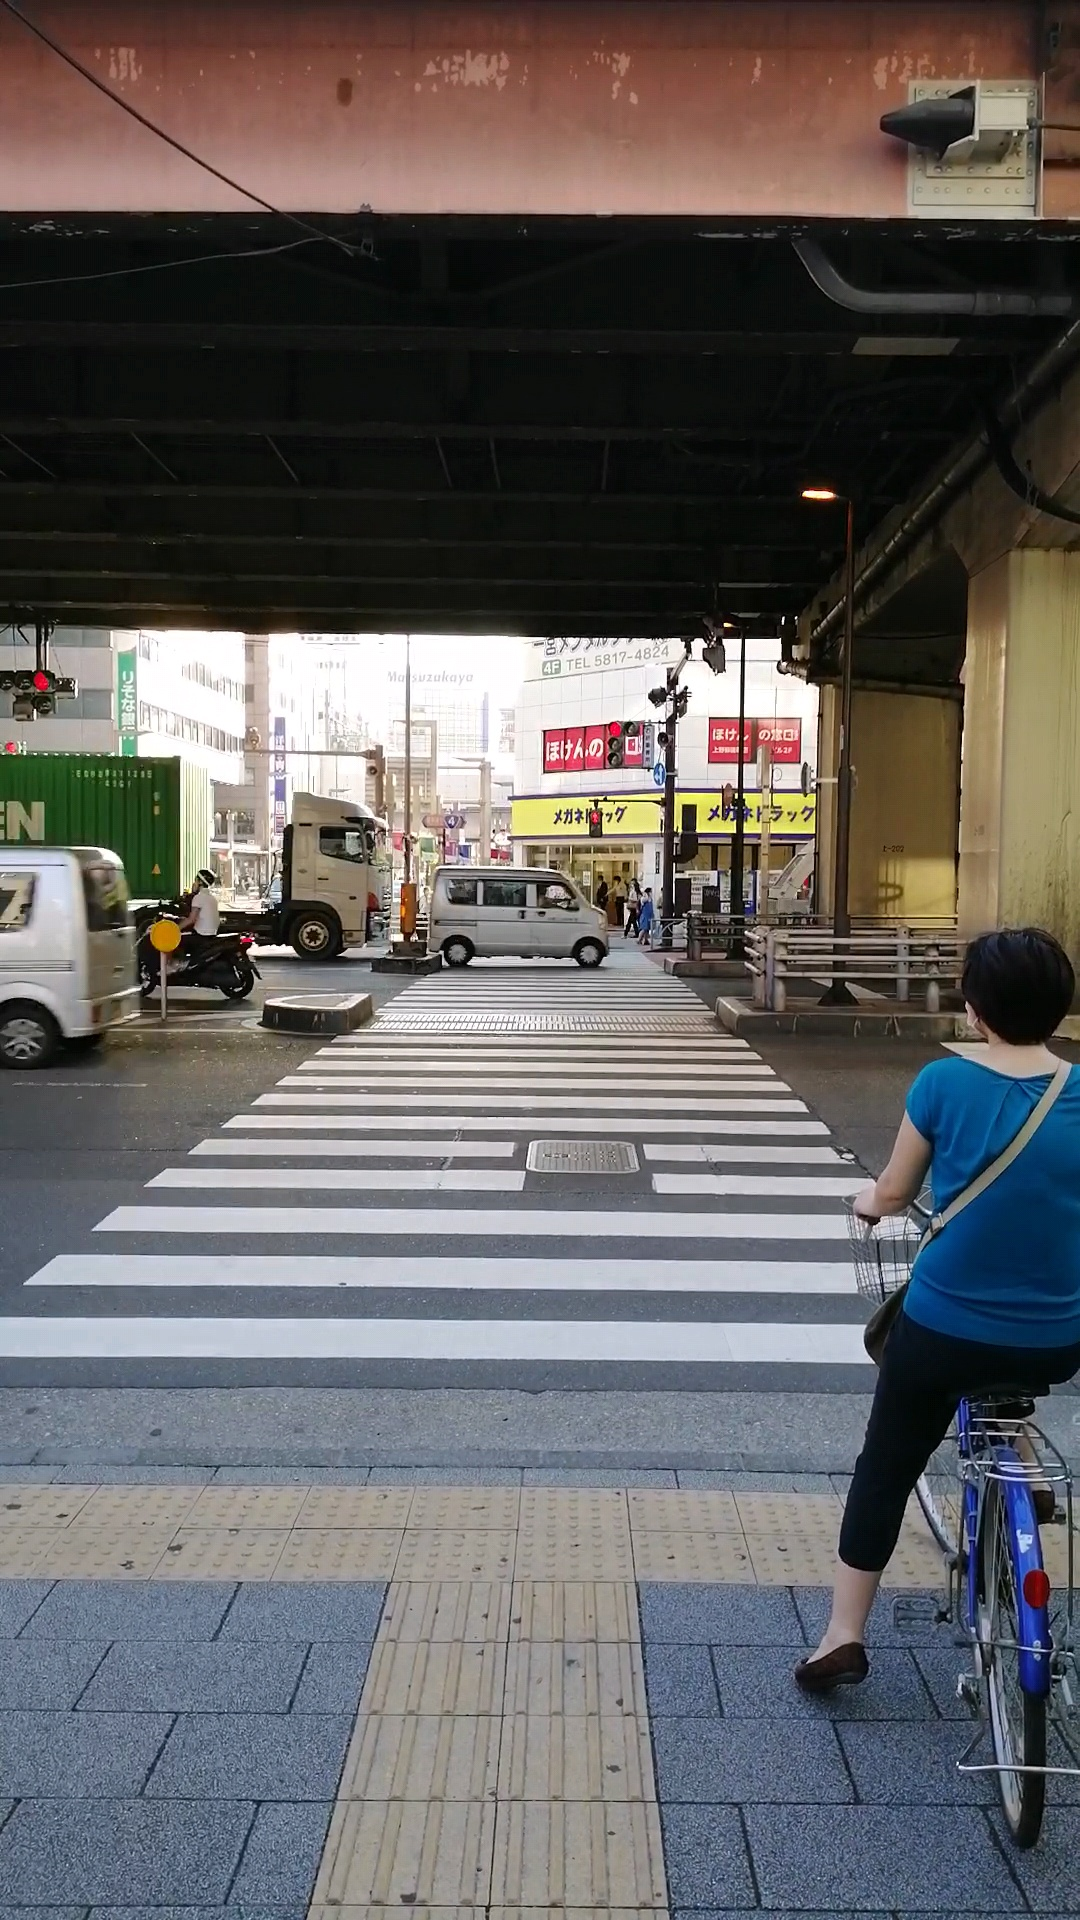red: (585, 804, 605, 839)
